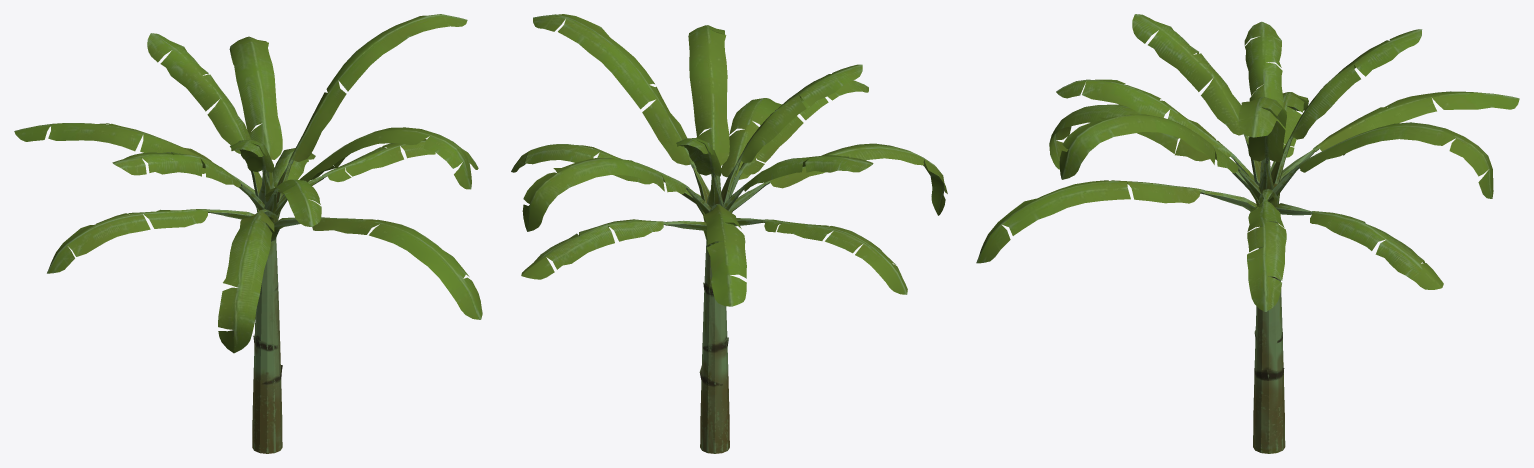
File: banana_tree.glb
3 renders of one model, left to right at view 1: azimuth 30°, elevation 25°; view 2: azimuth 150°, elevation 25°; view 3: azimuth 270°, elevation 25°, orthographic. The views are drawn at different scales.
Parts seen in each view (by area): view 1: BANANA_PLANT; view 2: BANANA_PLANT; view 3: BANANA_PLANT.
Boxes of the visible parts, bbox=[...] form: BANANA_PLANT: bbox=[14, 14, 482, 453]; BANANA_PLANT: bbox=[511, 14, 947, 453]; BANANA_PLANT: bbox=[976, 14, 1519, 453].
Bounding box in the file's own units: 11.11 × 10.1 × 11.81.
Materials: 1 (1 with a texture image).
